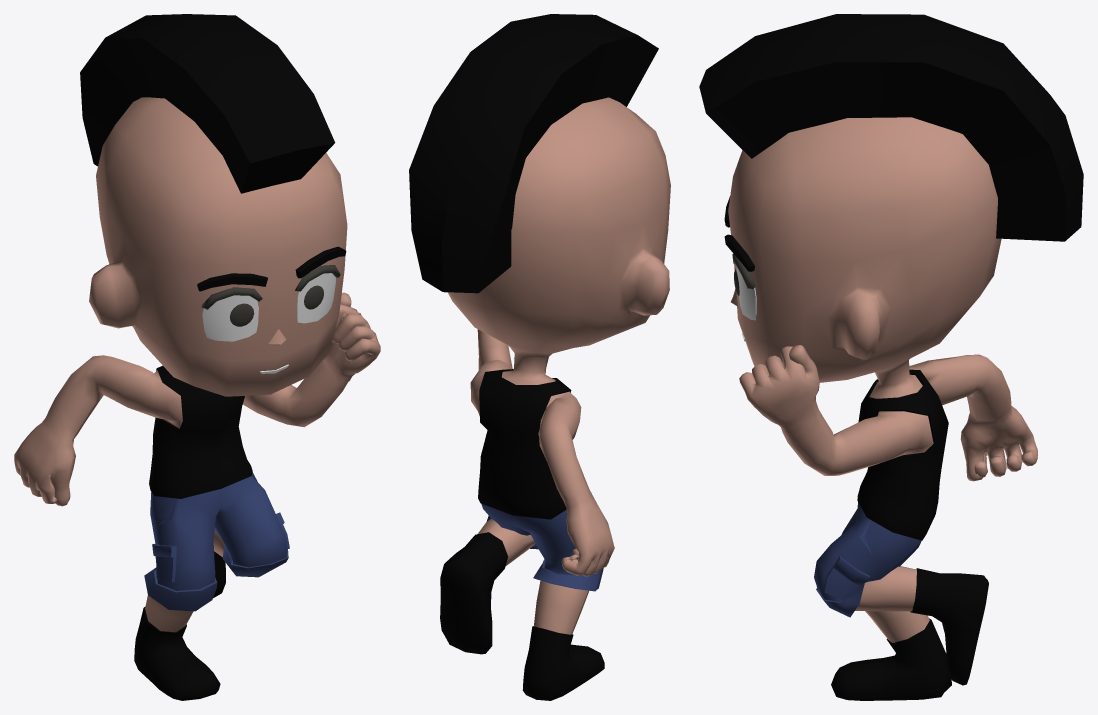
The model's file is Personajes_Rockeros_002.fbx.
3 views of the same model, side by side, from view 1: azimuth 30°, elevation 25°; view 2: azimuth 150°, elevation 25°; view 3: azimuth 270°, elevation 25° (orthographic). The views are drawn at different scales.
Visible parts, largest first — view 1: body, body.003, shorts2, shirt2, socks, eyesbase1, eyebrows1, eyes6; view 2: body, body.003, socks, shirt2, shorts2; view 3: body, body.003, socks, shirt2, shorts2, eyesbase1.
Boxes of the visible parts, left/top/right/bottom form: body: left=14, top=97, right=380, bottom=632; body.003: left=80, top=14, right=335, bottom=193; shorts2: left=144, top=472, right=289, bottom=611; shirt2: left=149, top=365, right=252, bottom=498; socks: left=134, top=551, right=225, bottom=700; eyesbase1: left=201, top=265, right=340, bottom=341; eyebrows1: left=197, top=246, right=346, bottom=291; eyes6: left=230, top=285, right=323, bottom=326; body: left=448, top=97, right=670, bottom=634; body.003: left=409, top=14, right=658, bottom=293; socks: left=440, top=532, right=604, bottom=700; shirt2: left=478, top=369, right=571, bottom=519; shorts2: left=481, top=503, right=603, bottom=591; body: left=728, top=117, right=1037, bottom=642; body.003: left=699, top=14, right=1083, bottom=241; socks: left=831, top=568, right=988, bottom=700; shirt2: left=857, top=369, right=948, bottom=540; shorts2: left=814, top=502, right=921, bottom=617; eyesbase1: left=732, top=253, right=756, bottom=320.
Bounding box in the file's own units: 75.03 × 184 × 93.85.
